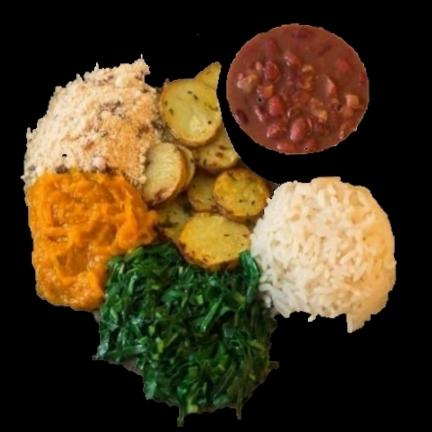beans: (227, 26, 369, 154)
potato: (143, 64, 270, 268)
rice: (251, 177, 396, 332)
salad: (98, 242, 276, 427)
